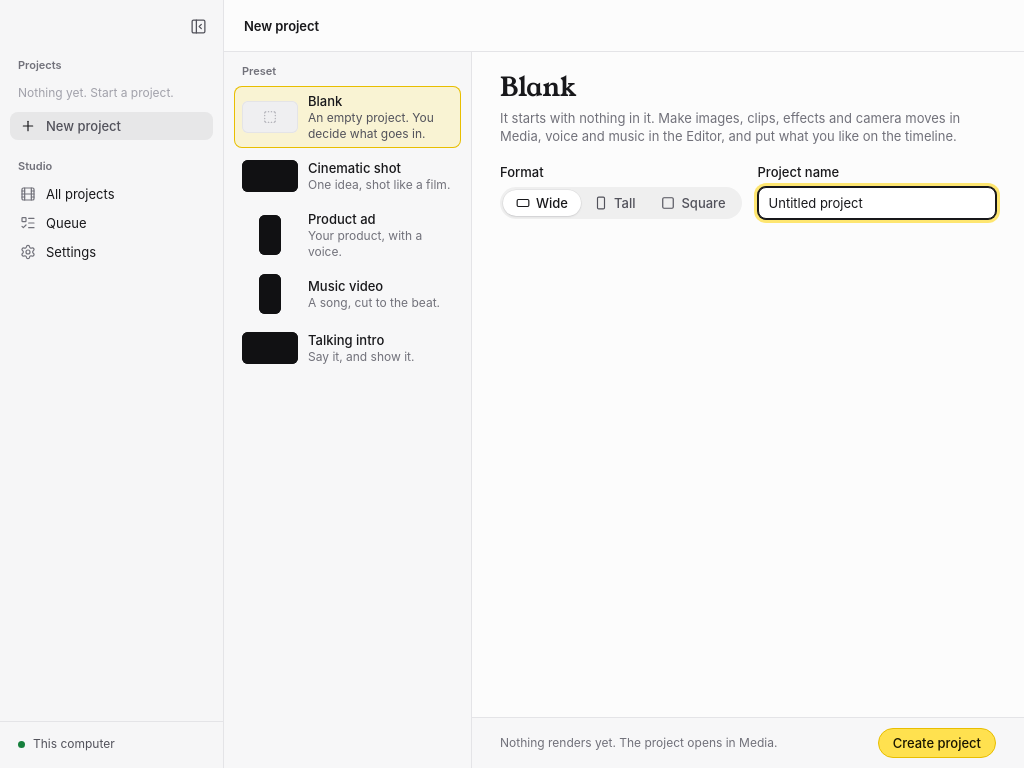
Test: new project copy follows the recipe's shot length › on the Spark: 4 s shots
Click the radio button labelled "Cinematic shot One idea, shot like a film." at (348, 176), box [234,150,461,202]
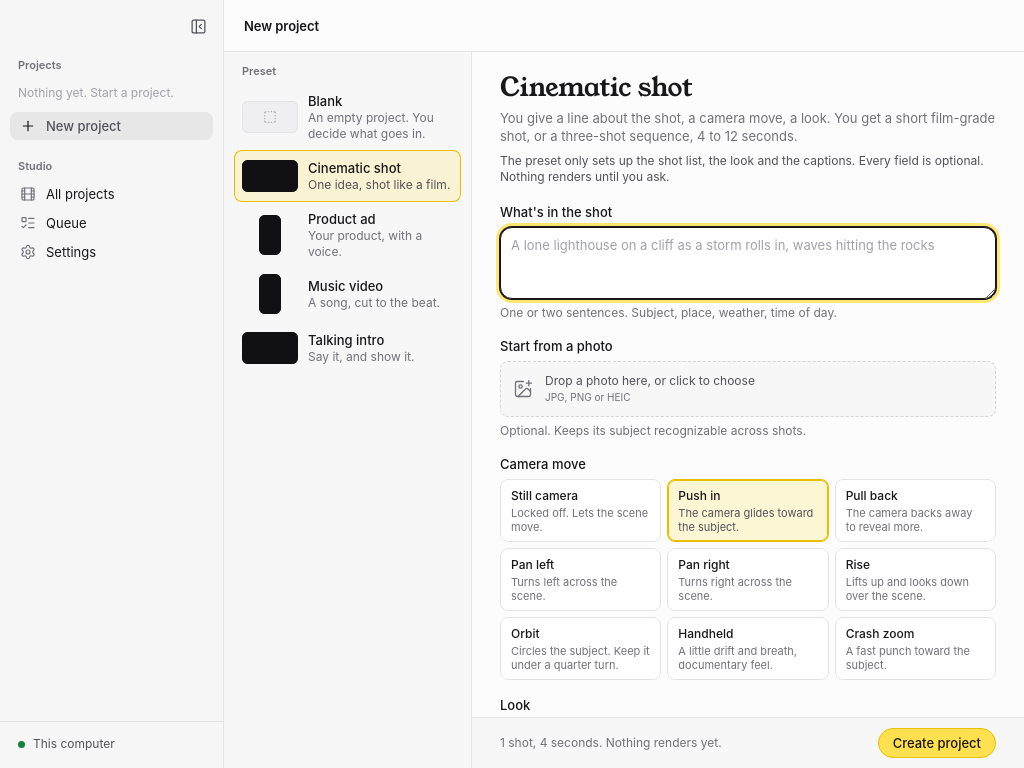
Expected: the text "a three-shot sequence, 4 to 12 seconds." is shown, [500,109,996,145]
Expected: the text "1 shot, 4 seconds. Nothing renders yet." is shown, [500,735,722,751]
